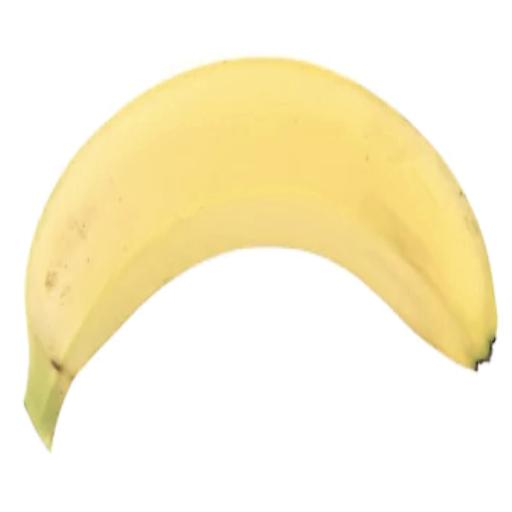banana: (24, 59, 495, 448)
